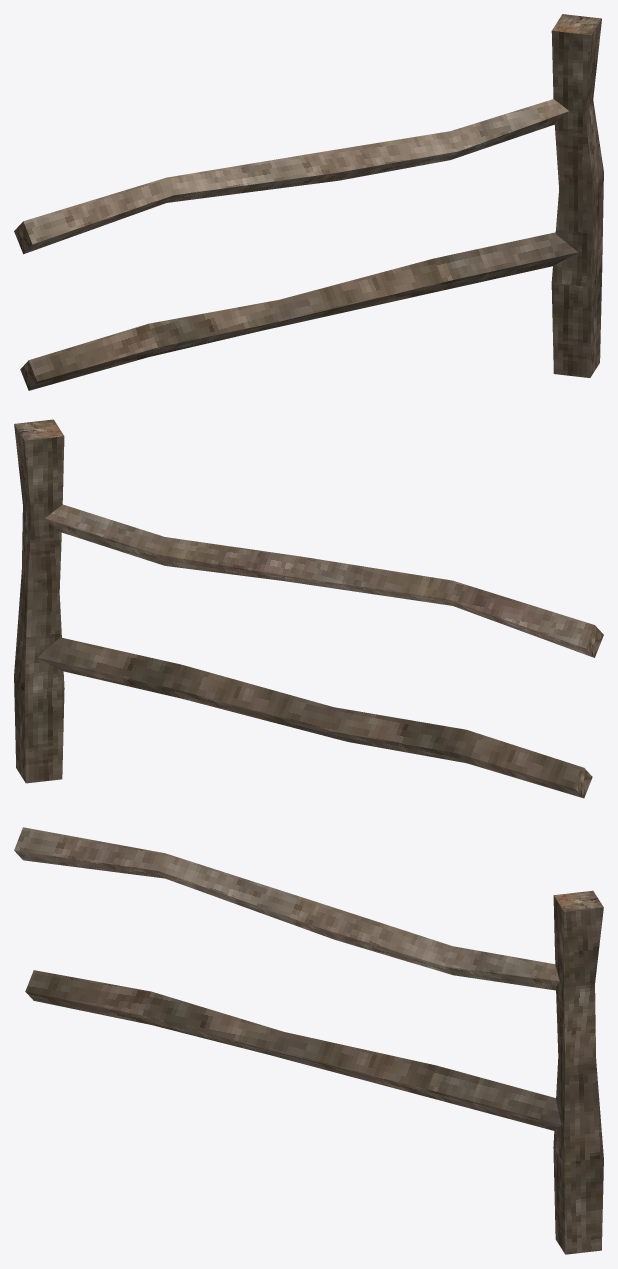
The model's file is wooden_fence_open.glb.
The picture shows the model from 3 angles, top to bottom: view 1: azimuth 30°, elevation 25°; view 2: azimuth 150°, elevation 25°; view 3: azimuth 330°, elevation 25°; orthographic projection.
Parts seen in each view (by area): view 1: wooden_fence_open; view 2: wooden_fence_open; view 3: wooden_fence_open.
Boxes of the visible parts, box(x1,y1,x2,y2) form: wooden_fence_open: box(14, 14, 603, 390); wooden_fence_open: box(14, 419, 603, 798); wooden_fence_open: box(14, 827, 603, 1254).
Size of the model in its own units: 2.12 by 1.2 by 0.1891.
1 material, 1 textured.
